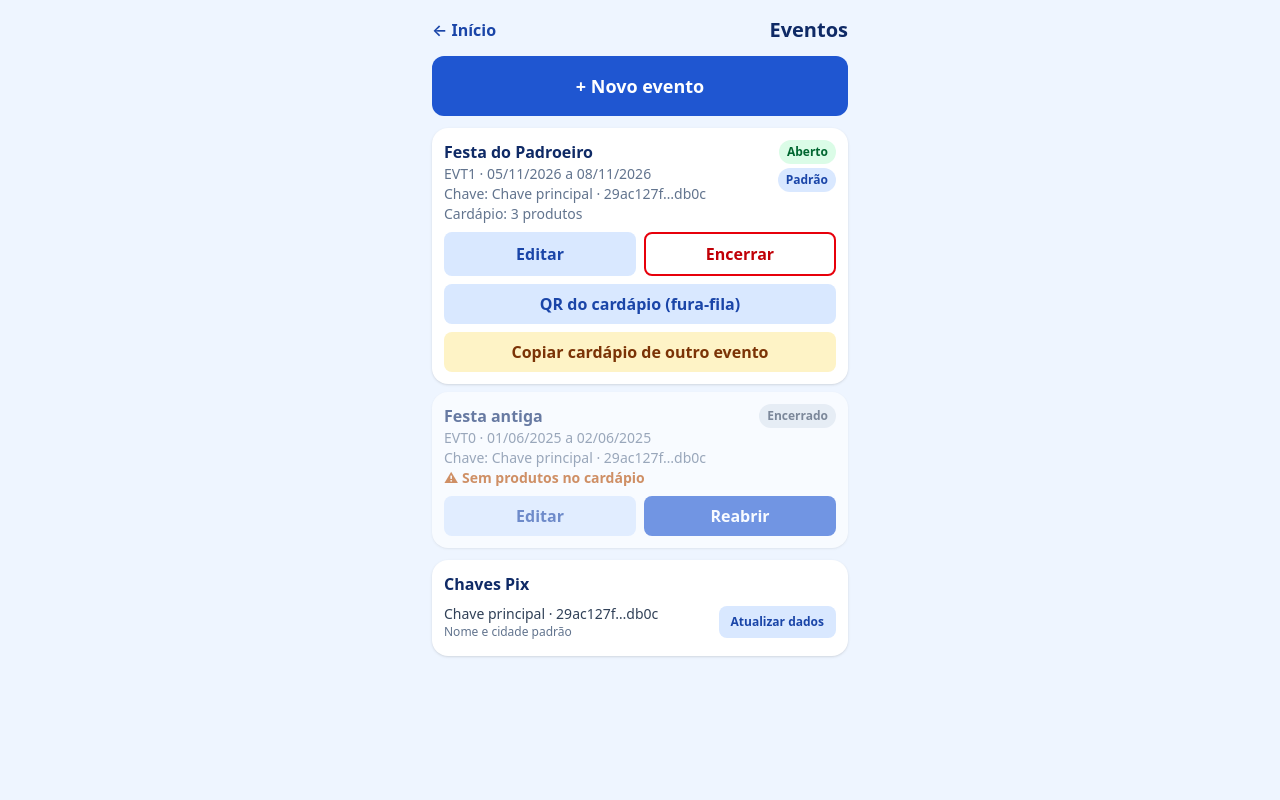
Test case: eventos e chaves Pix (Conselho/admin) › copiar cardápio: mostra erro amigável quando o banco recusa
The width and height of the screenshot is (1280, 800).
expect the text "Festa do Padroeiro" is shown: met, box x1=444 y1=141 x2=593 y2=163
Click the button "Copiar cardápio de outro evento" at (640, 352), box x1=444 y1=332 x2=836 y2=372
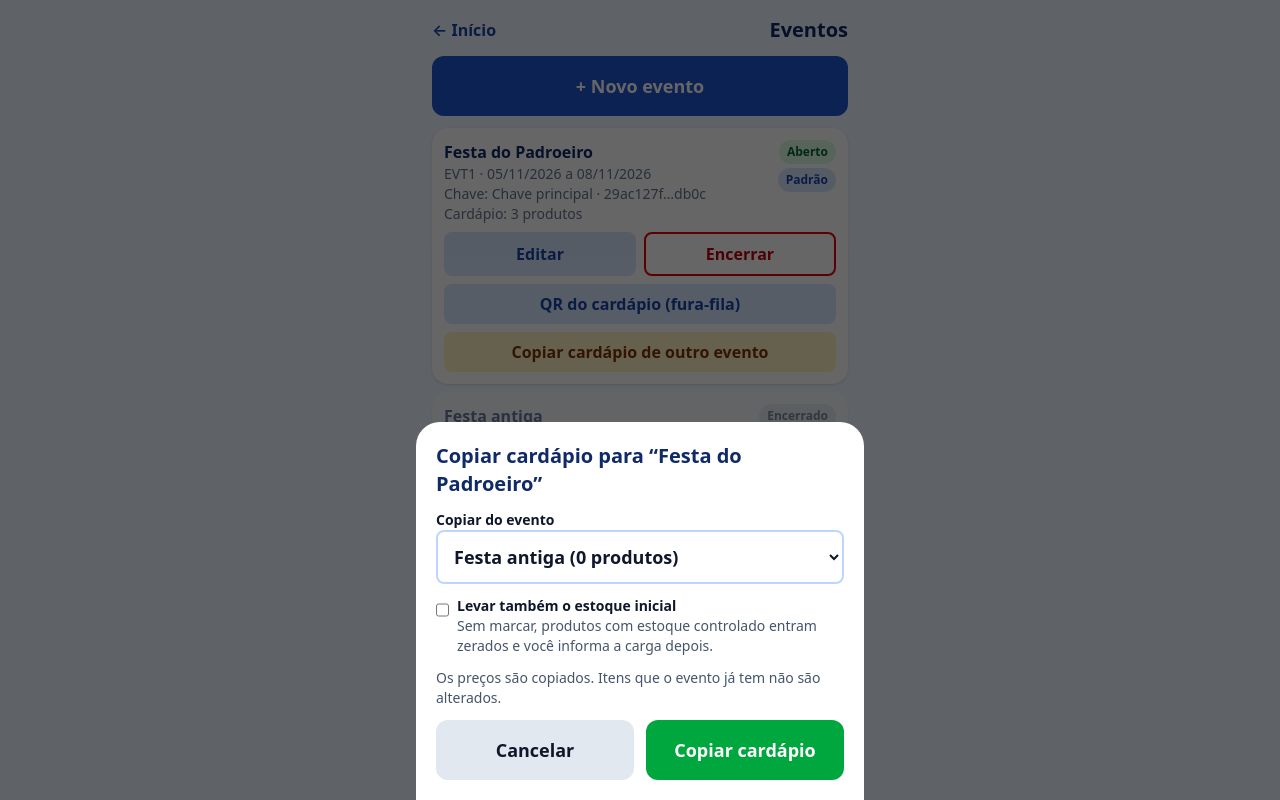
Click the button "Copiar cardápio" at (745, 750), box x1=646 y1=720 x2=844 y2=780
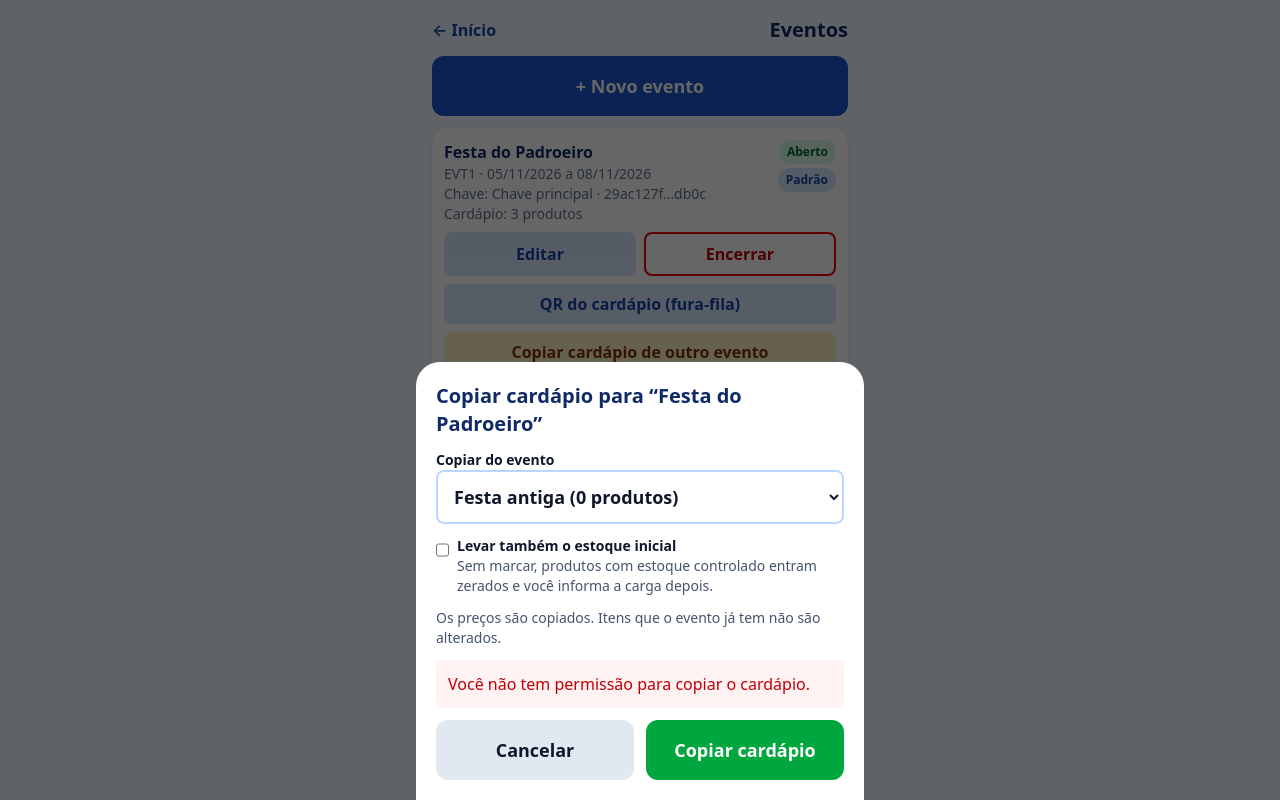
expect the message shows "permissão": met, box x1=448 y1=673 x2=810 y2=695
